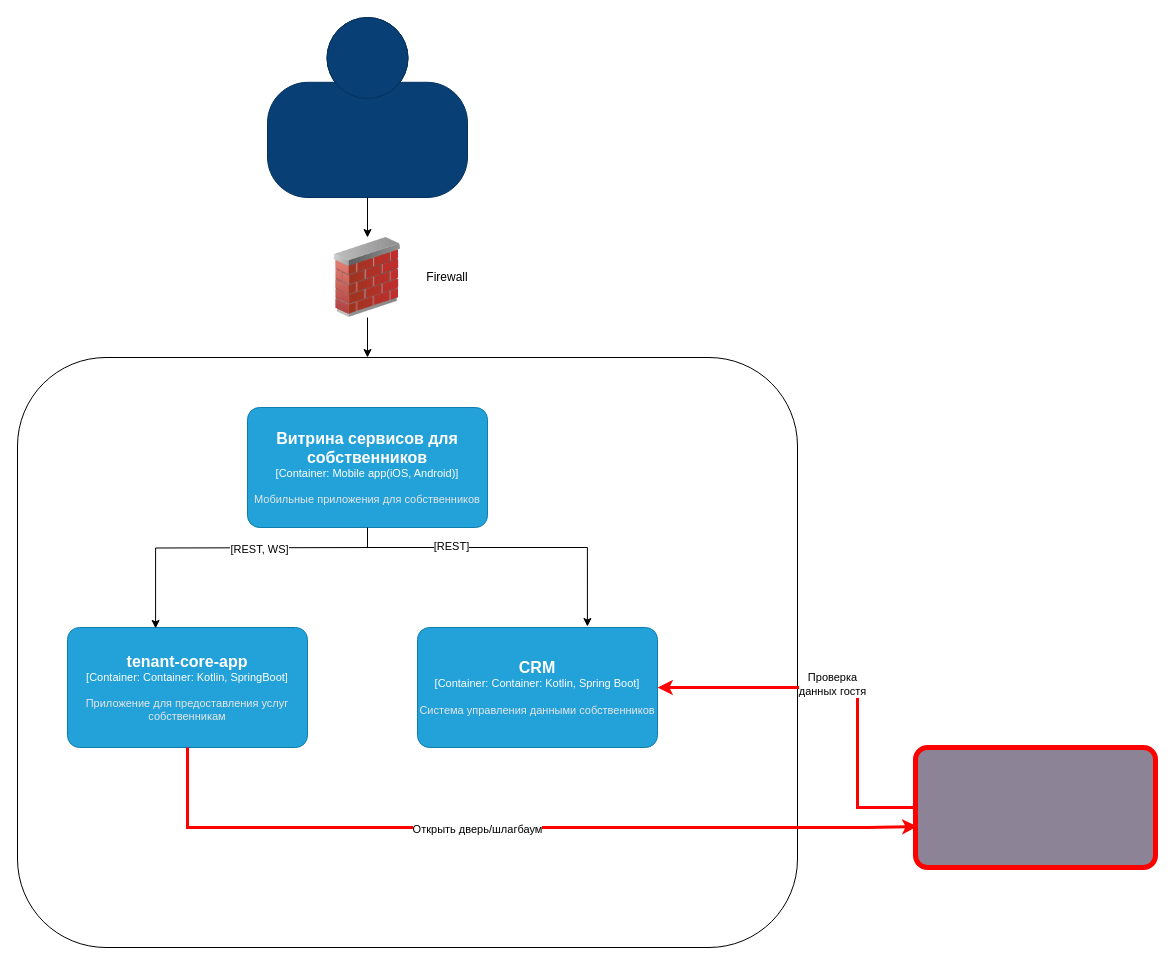
This 1175x965 diagram has some shape labels left out. Here are the shapes that lost their labels. From the top down, the box of each, then its label:
(266, 16, 468, 198): Собственник [Person] Клиент
(912, 744, 1158, 870): Открывание двери и шлагбаума [Software System]
